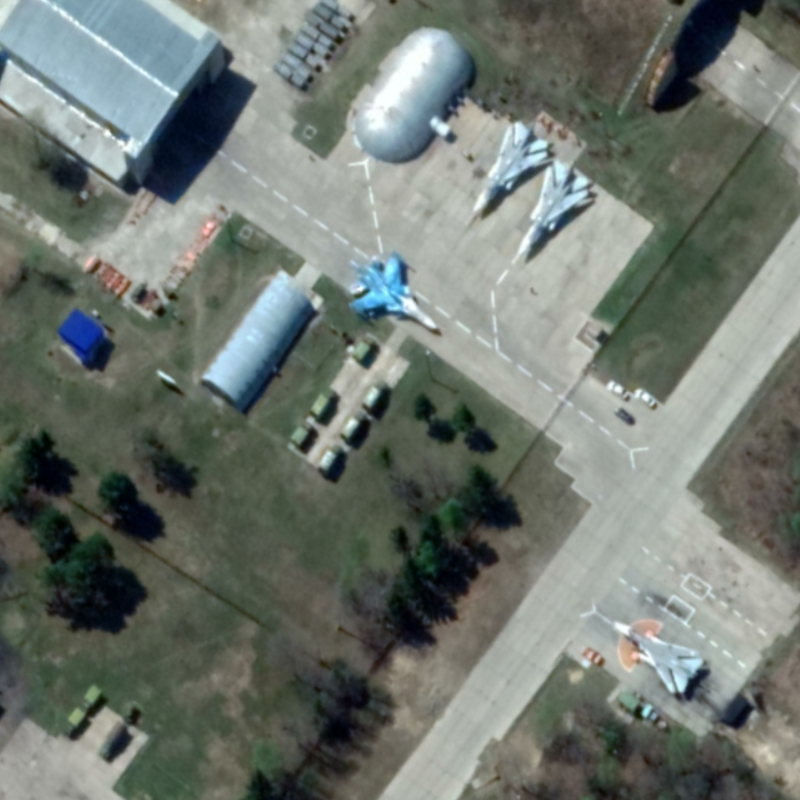A19: (346, 248, 441, 333)
A20: (470, 119, 551, 214), (516, 158, 592, 257), (612, 620, 705, 695)
